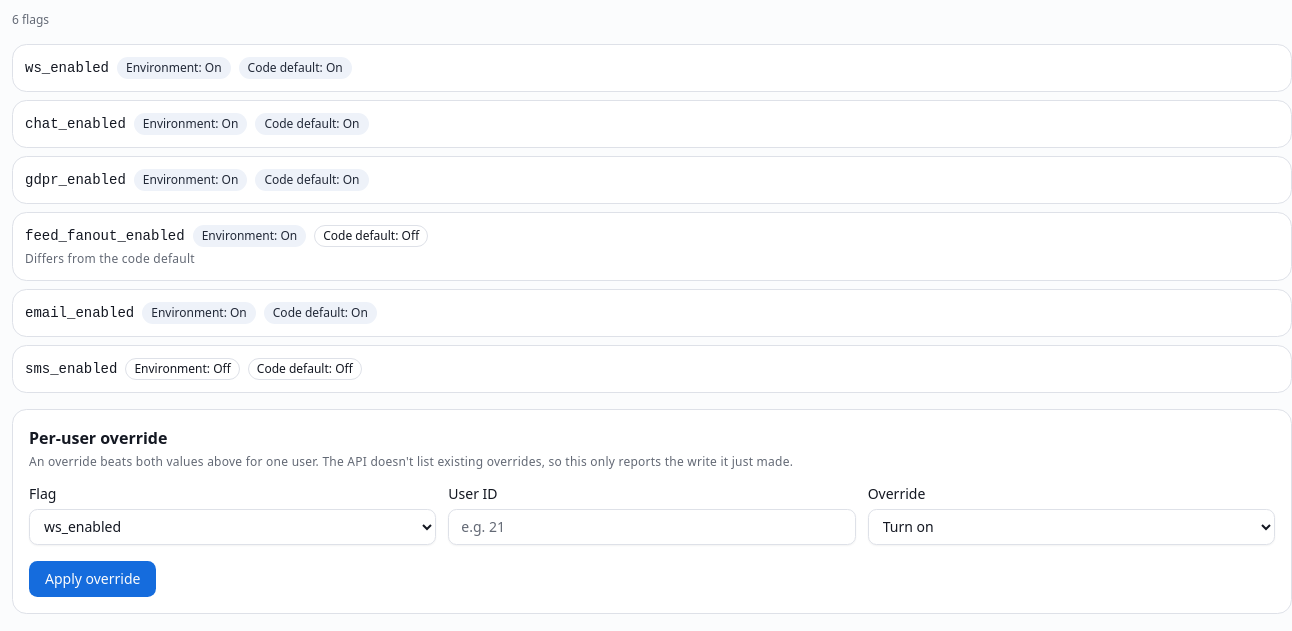
Test: FlagList › sends enabled: false for "Turn off" and reports that exact sentence
The image size is (1292, 631).
Expected: the list is shown, left=12, top=44, right=1291, bottom=393
Step 1. Select "chat_enabled" in the dropdown labelled "Flag" → (233,527), box left=29, top=509, right=436, bottom=545
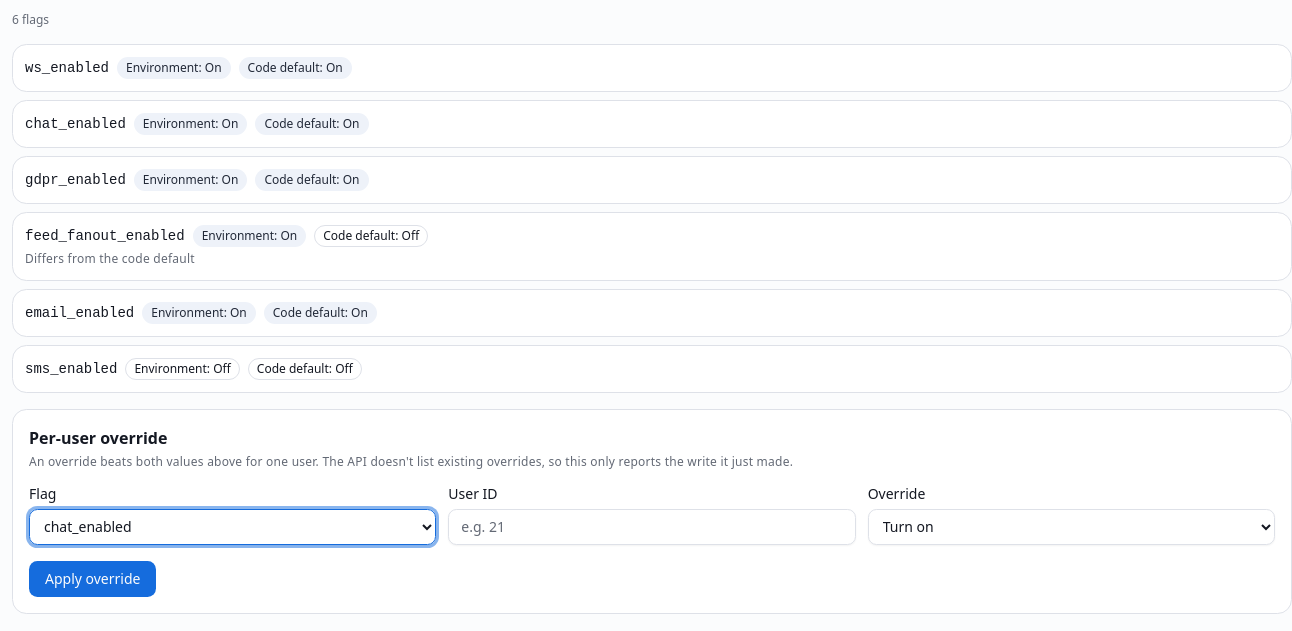
Step 2. Select "Turn off" in the dropdown labelled "Override" → (1071,527), box left=868, top=509, right=1275, bottom=545
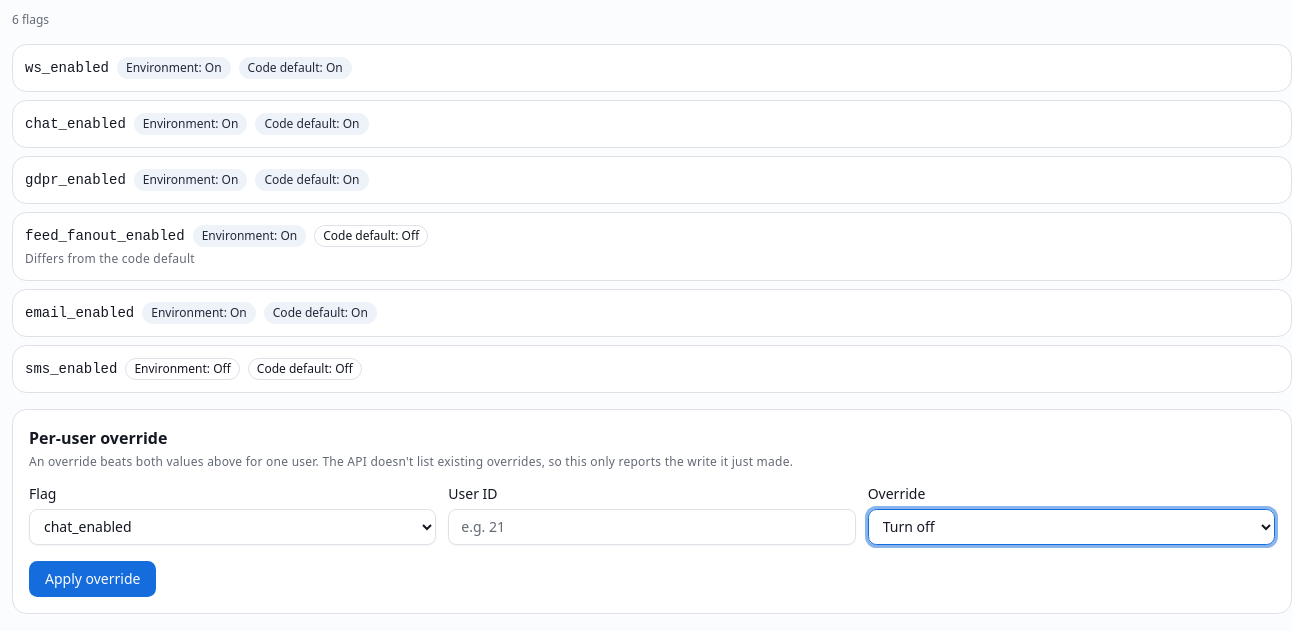
Step 3. Type "21" into the number field labelled "User ID" → (652,527), box left=448, top=509, right=856, bottom=545
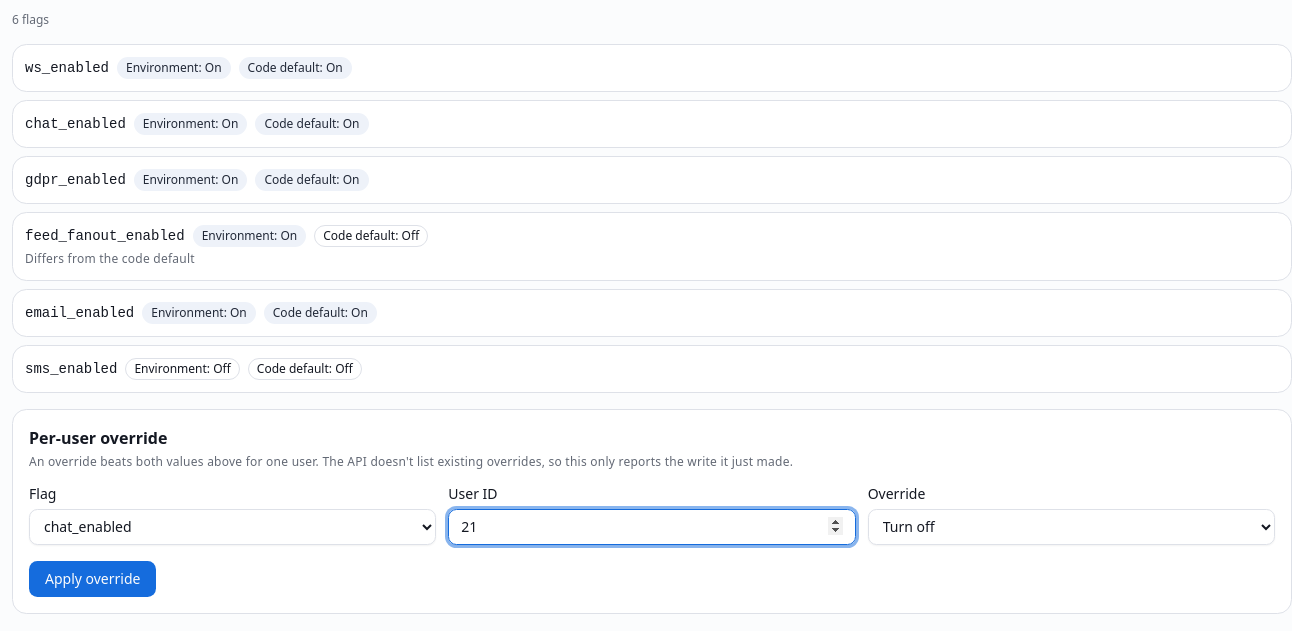
Step 4. Click the button "Apply override" → (93,579), box left=29, top=561, right=156, bottom=597
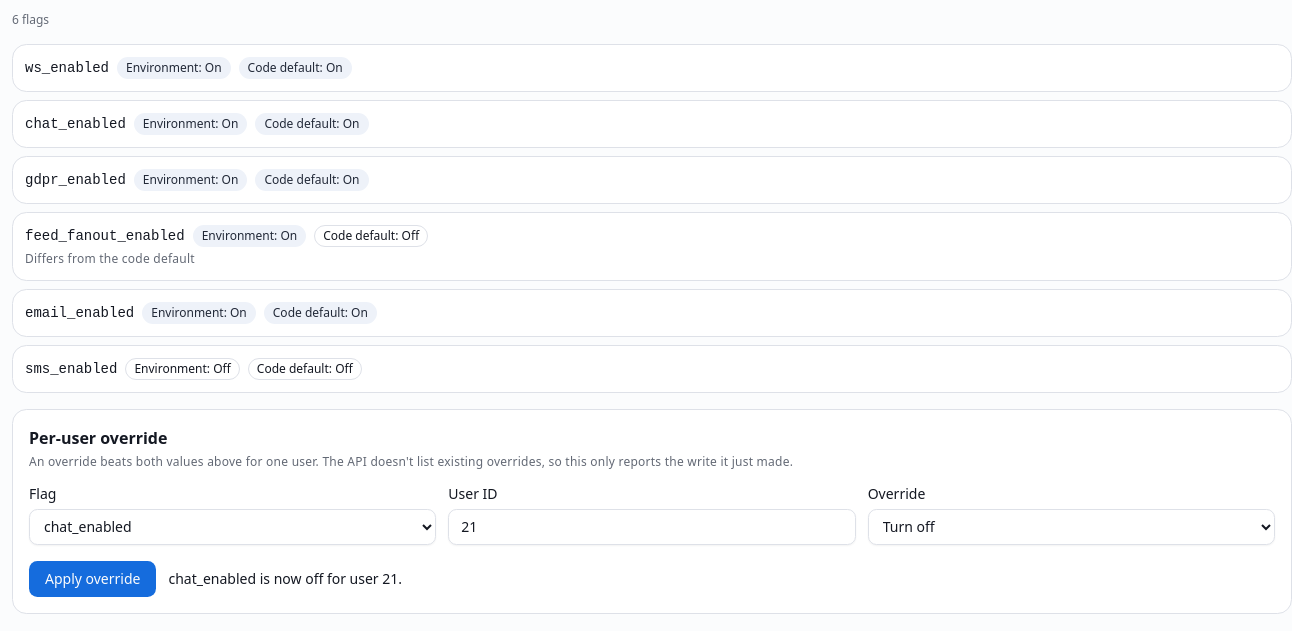
Expected: the message reads "chat_enabled is now off for user 21.", left=168, top=569, right=402, bottom=588
